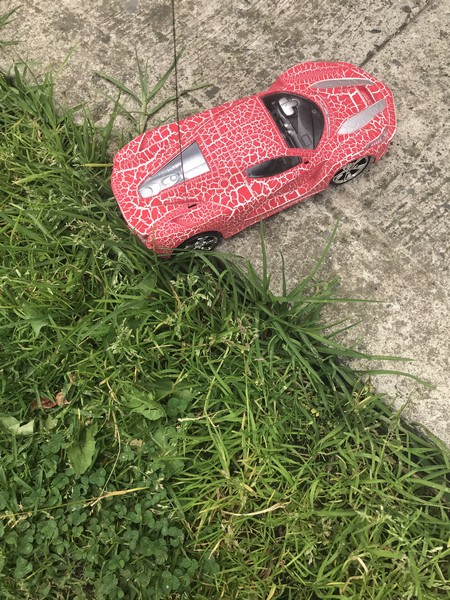RC: (110, 61, 401, 262)
